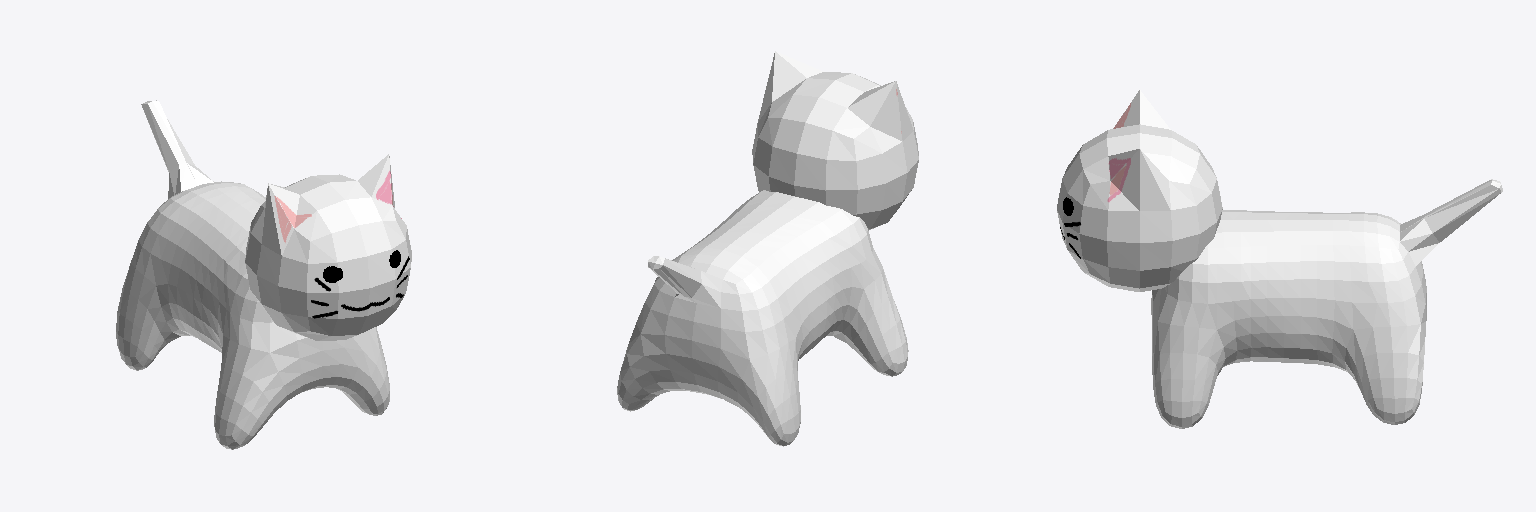
3 views of the same model, side by side, from view 1: azimuth 30°, elevation 25°; view 2: azimuth 150°, elevation 25°; view 3: azimuth 270°, elevation 25° (orthographic).
Visible parts, largest first — view 1: 立方体.001; view 2: 立方体.001; view 3: 立方体.001.
Boxes of the visible parts, x1=… form: 立方体.001: x1=116, y1=100, x2=411, y2=449; 立方体.001: x1=617, y1=51, x2=918, y2=446; 立方体.001: x1=1057, y1=90, x2=1502, y2=428.
Size of the model in its own units: 0.7445 by 1.13 by 1.66.
1 materials, 1 textured.